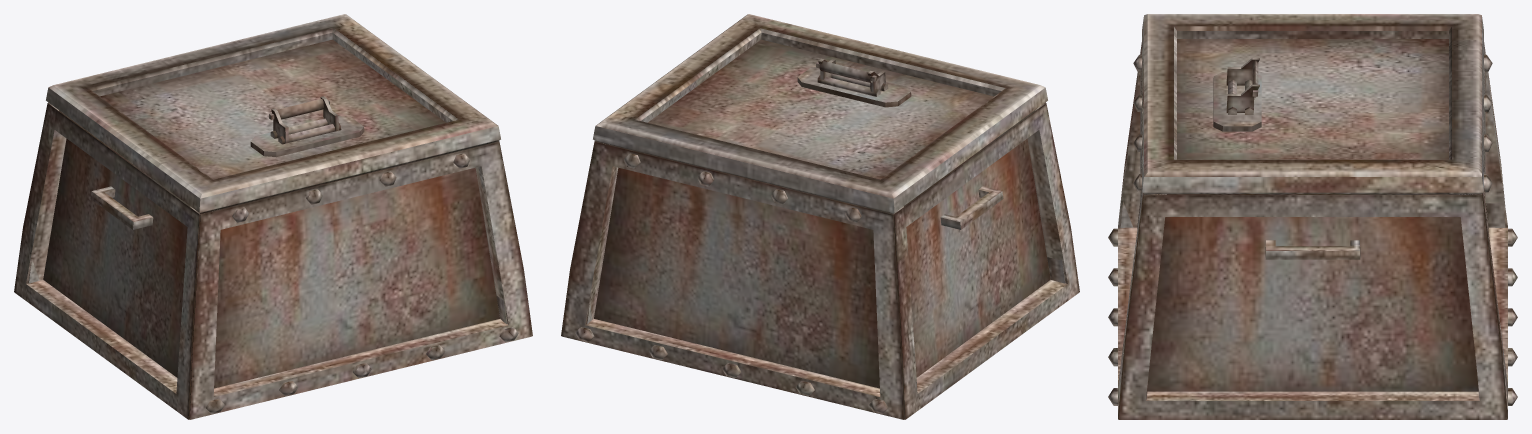
Rendered from iron-chest.glb.
The picture shows the model from 3 angles, left to right: view 1: azimuth 30°, elevation 25°; view 2: azimuth 150°, elevation 25°; view 3: azimuth 270°, elevation 25°; orthographic projection. The views are drawn at different scales.
Visible parts, largest first — view 1: body; view 2: body; view 3: body.
Part boxes in pixels (x1,y1,x2,y2): body: (14,14,532,419); body: (561,14,1079,419); body: (1108,14,1517,419).
Bounding box in the file's own units: 0.971 × 0.6161 × 0.9.
1 material, 1 textured.
